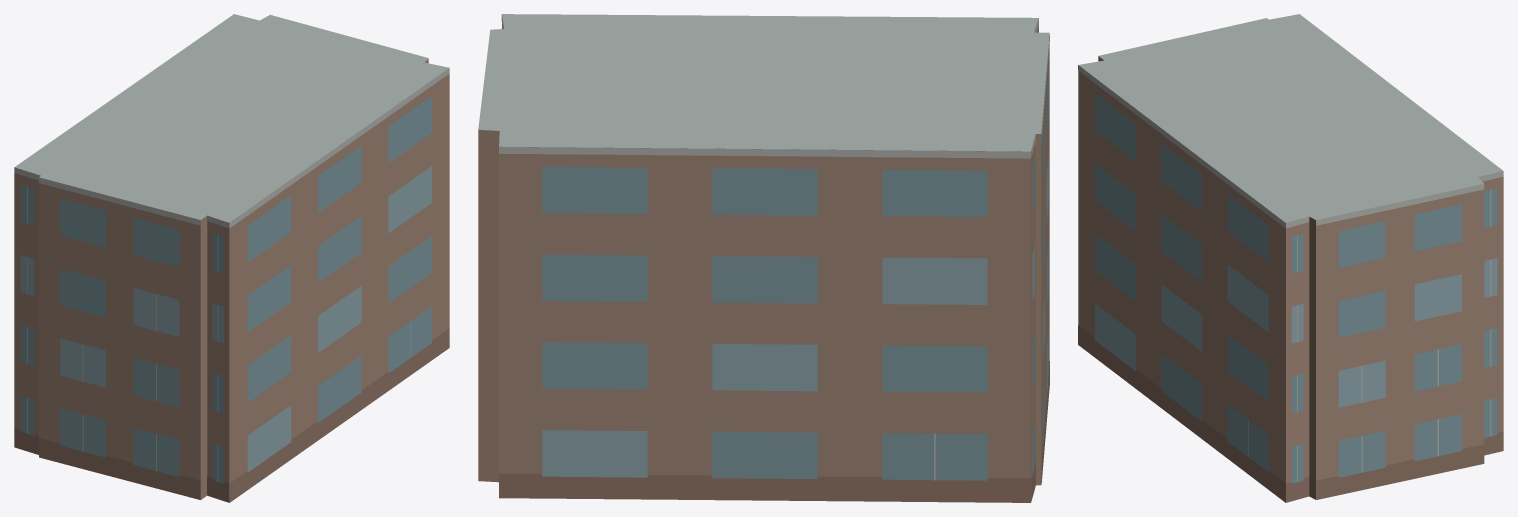
File: survey-upis-32727472.glb
3 renders of one model, left to right at view 1: azimuth 30°, elevation 25°; view 2: azimuth 150°, elevation 25°; view 3: azimuth 270°, elevation 25°, orthographic. The views are drawn at different scales.
Parts seen in each view (by area): view 1: survey-upis-32727472.tmp; view 2: survey-upis-32727472.tmp; view 3: survey-upis-32727472.tmp.
Boxes of the visible parts, x1,y1,x2,y2 form: survey-upis-32727472.tmp: (14, 14, 449, 502); survey-upis-32727472.tmp: (478, 14, 1049, 502); survey-upis-32727472.tmp: (1078, 14, 1503, 502).
Size of the model in its own units: 19.55 by 12.2 by 16.82.
